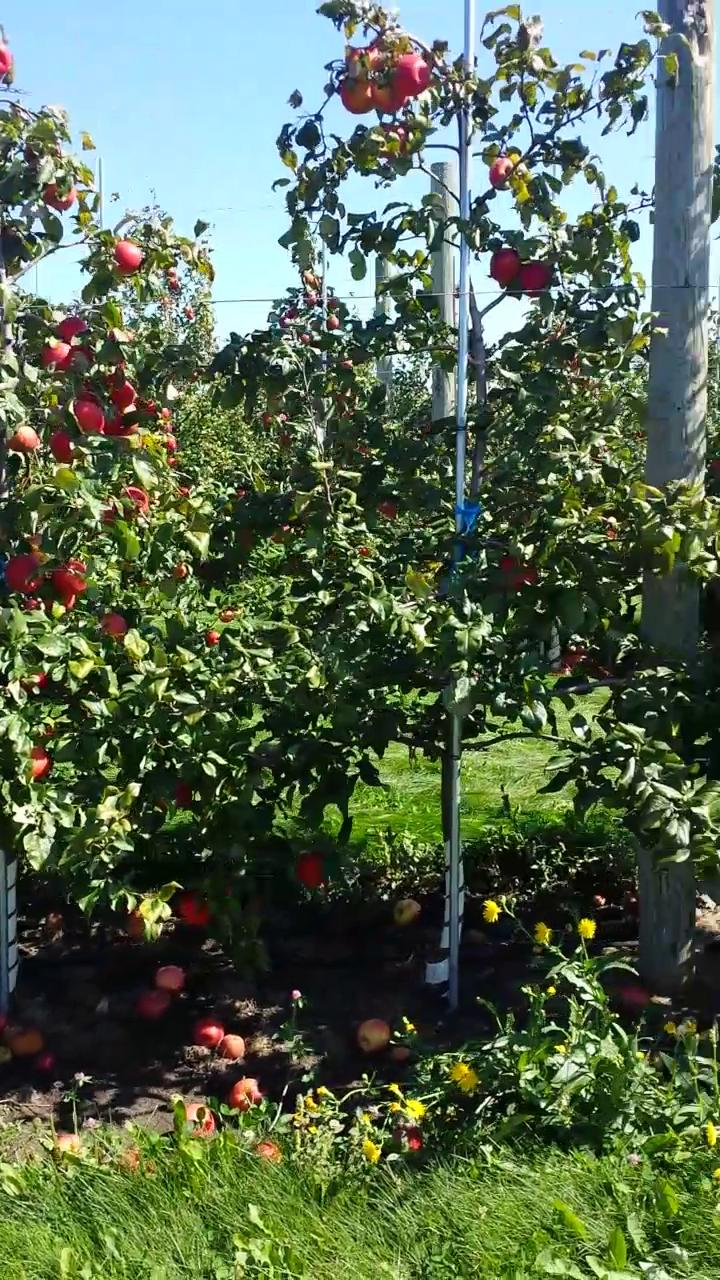Apple: (393, 53, 431, 96), (4, 554, 45, 593), (177, 887, 209, 927), (369, 80, 407, 113), (340, 79, 374, 113), (490, 248, 522, 283), (40, 181, 78, 209), (53, 561, 87, 592), (73, 398, 103, 433), (519, 263, 551, 295), (111, 240, 141, 273), (349, 45, 385, 72), (377, 121, 406, 152), (40, 343, 73, 370), (297, 855, 322, 889), (49, 428, 73, 463), (103, 414, 138, 437), (7, 426, 37, 452), (109, 379, 136, 407), (59, 316, 88, 341), (488, 157, 513, 185), (123, 486, 151, 511), (509, 563, 538, 587), (30, 746, 50, 776), (100, 614, 126, 634), (173, 782, 192, 807), (0, 42, 13, 75), (564, 652, 586, 669), (82, 391, 102, 409), (24, 596, 50, 608), (71, 345, 91, 359), (102, 503, 115, 524), (61, 592, 75, 608), (379, 505, 396, 517), (205, 630, 219, 644), (500, 557, 514, 570), (116, 404, 133, 413), (37, 672, 48, 685), (103, 374, 117, 384)
